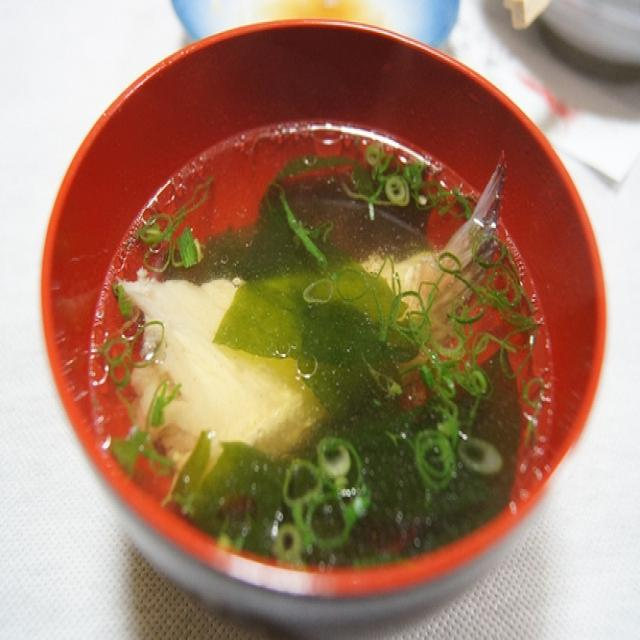汤锅炖物: (59, 89, 580, 586)
